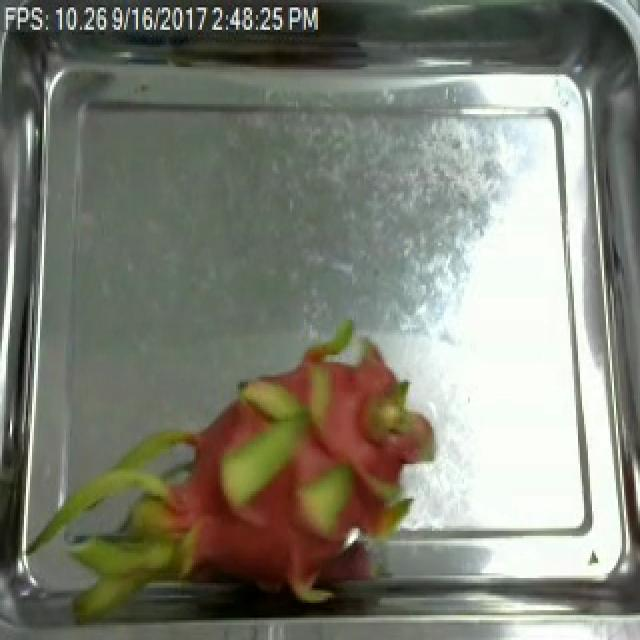fruit: (32, 300, 448, 625)
